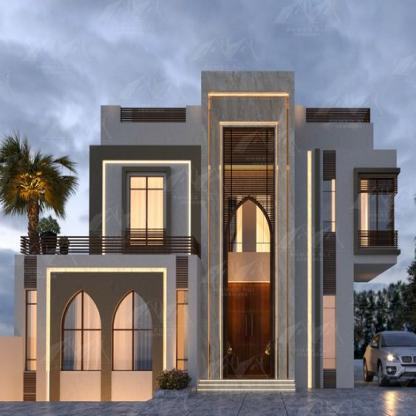Balcony: (228, 199, 270, 375), (20, 236, 200, 259), (100, 105, 201, 131), (306, 108, 370, 132)
Building Outline: (0, 71, 400, 402)
Door: (228, 283, 271, 374)
Facade: (0, 69, 400, 402)
Window: (114, 292, 151, 370), (64, 292, 101, 369), (130, 177, 163, 245), (361, 181, 393, 247), (177, 291, 190, 370), (28, 291, 39, 371), (323, 296, 335, 369), (256, 197, 270, 252), (229, 197, 242, 252), (323, 178, 335, 232)
